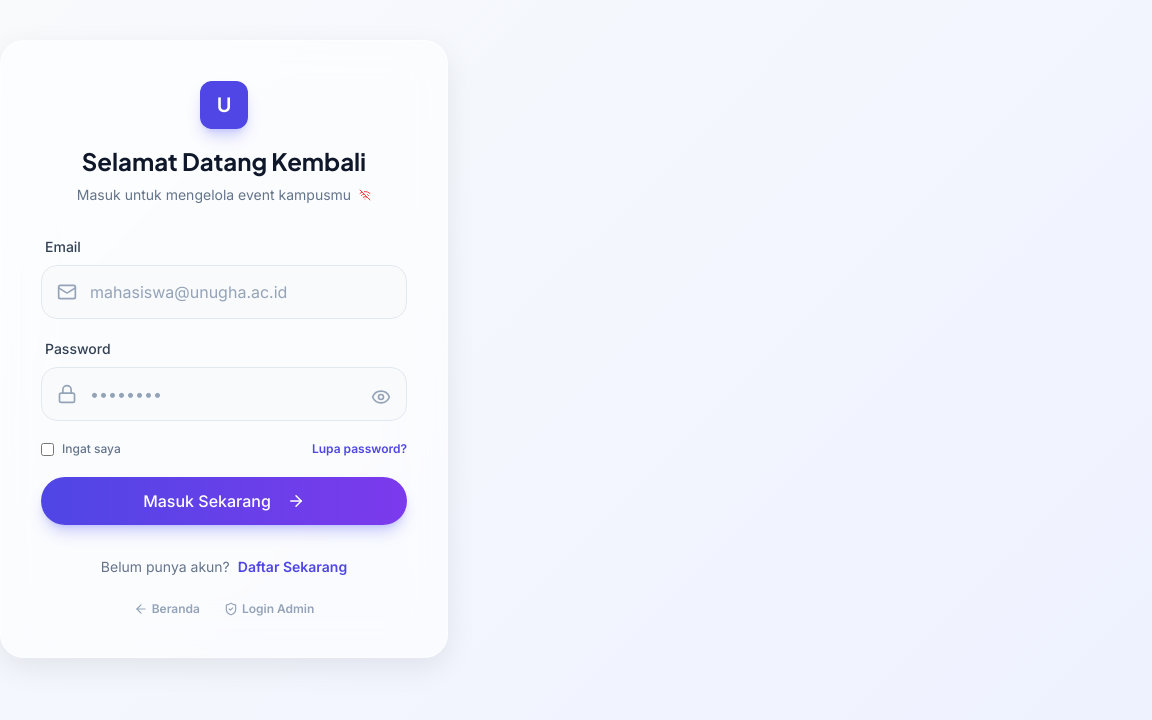
Login Page › handles reset password failure
Click the button "Lupa password?": [360, 449] box top-left (312, 441), bottom-right (407, 457)
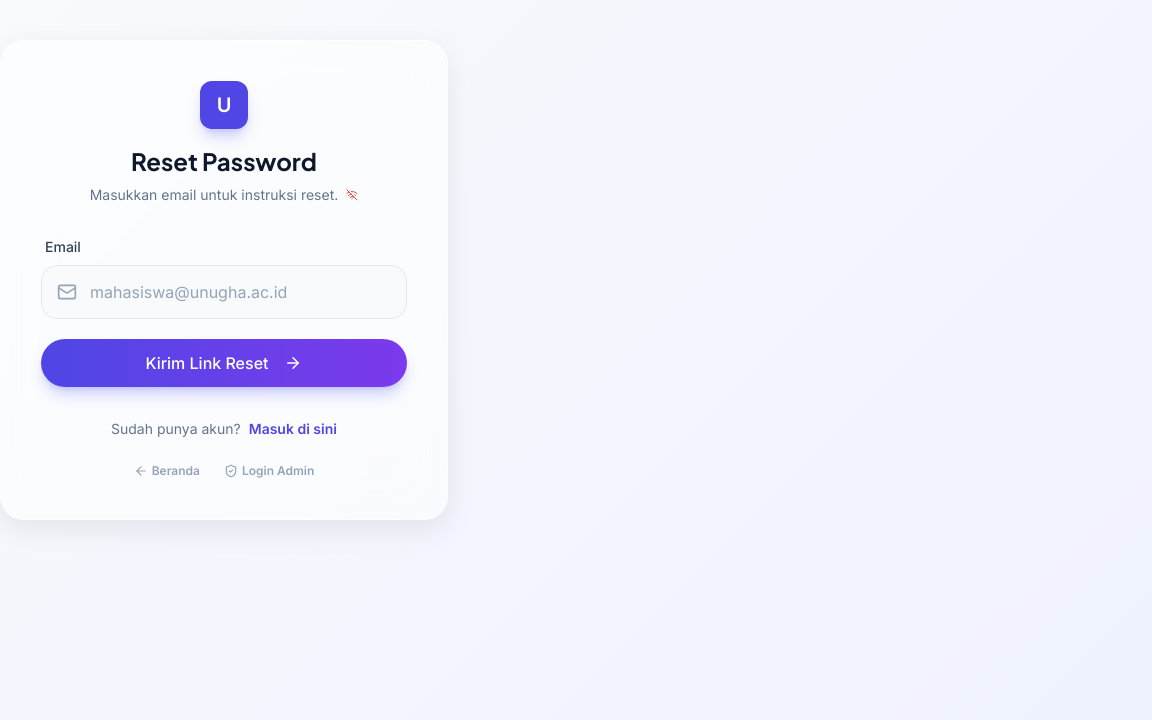
In the field labelled "Email": [224, 292] box top-left (41, 265), bottom-right (407, 319), type "fail@test.com"
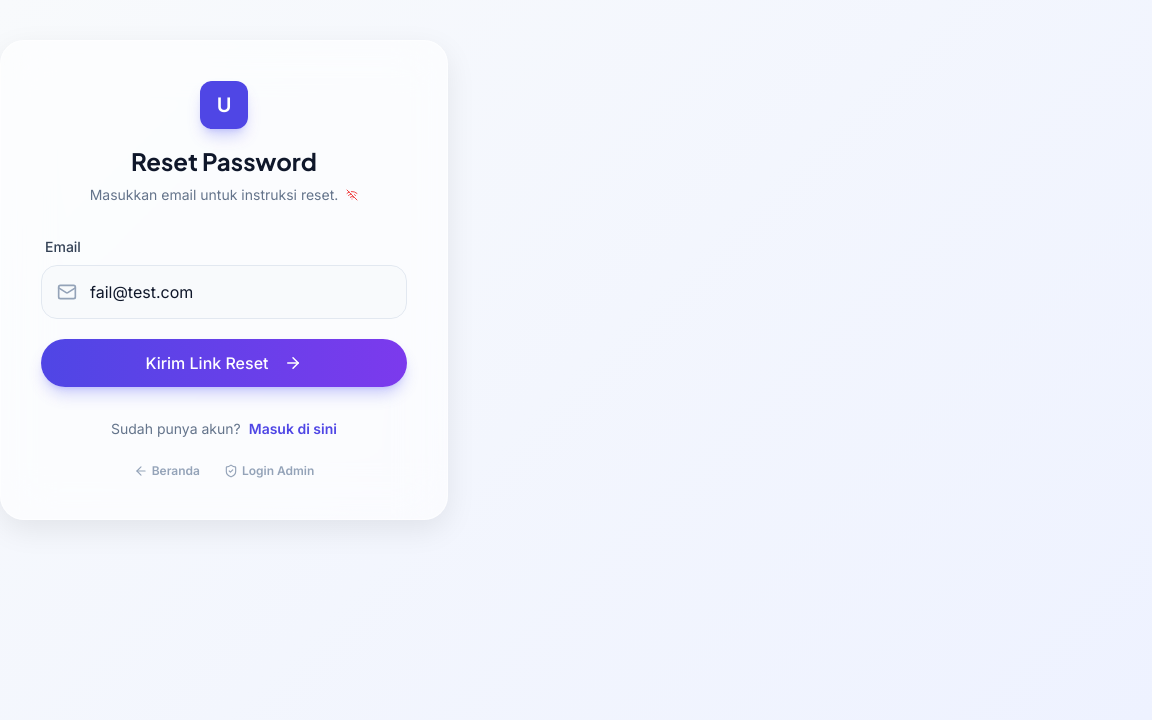
Click the button "Kirim Link Reset": [224, 363] box top-left (41, 339), bottom-right (407, 387)
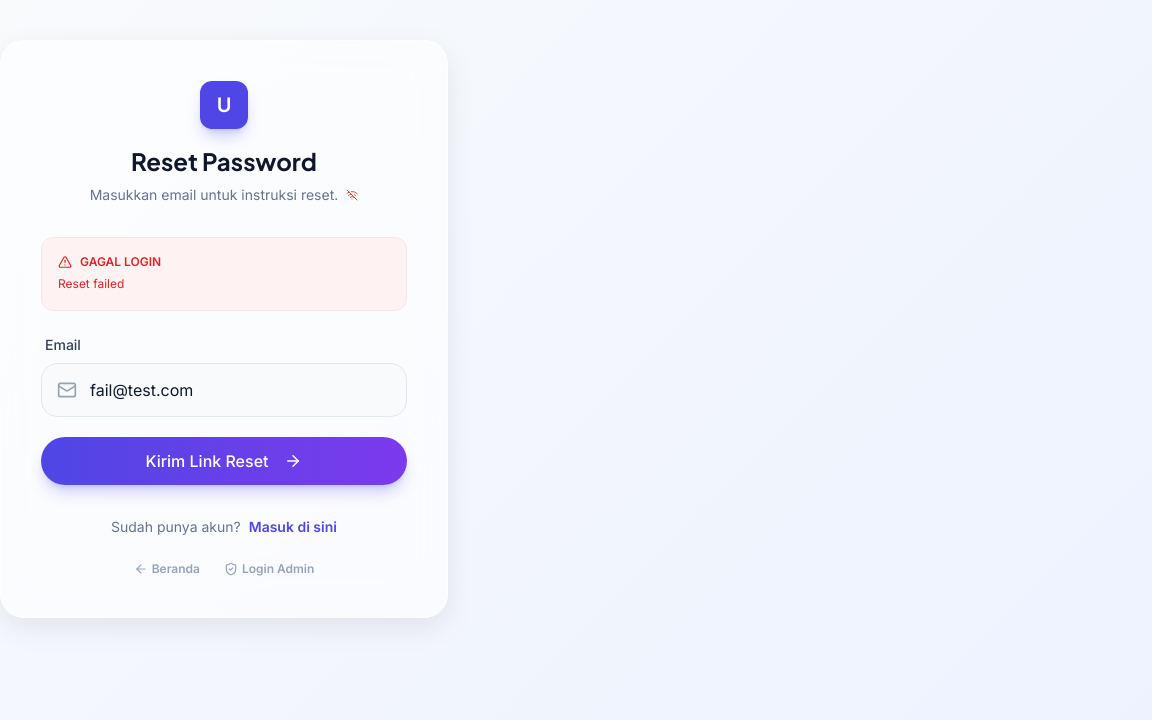
Check: the text "Reset failed" is shown, box top-left (58, 276), bottom-right (124, 291)
